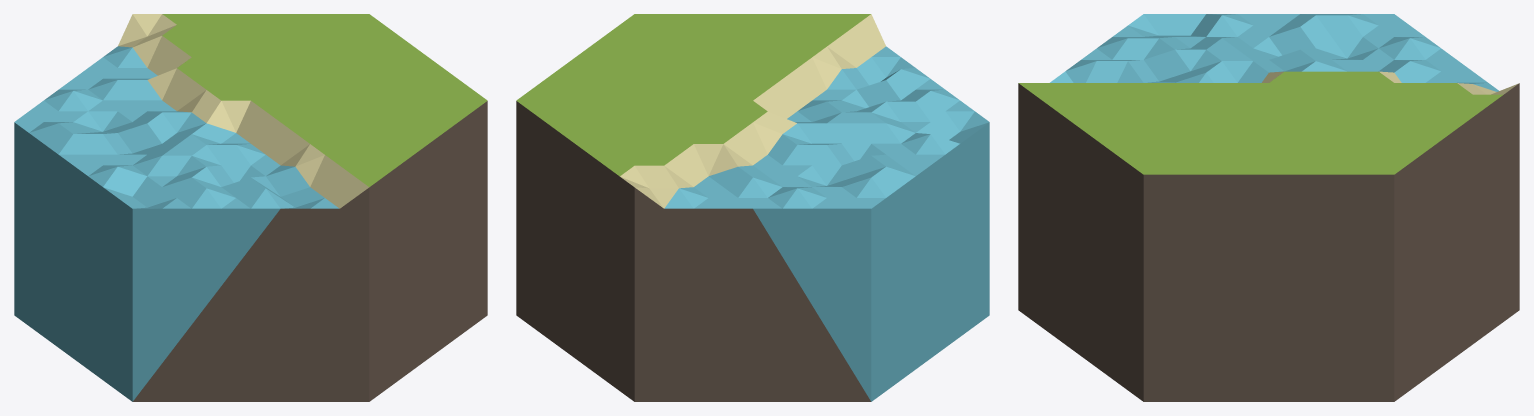
Rendered from coast3a.fbx.
3 renders of one model, left to right at view 1: azimuth 30°, elevation 25°; view 2: azimuth 150°, elevation 25°; view 3: azimuth 270°, elevation 25°, orthographic. The views are drawn at different scales.
Parts seen in each view (by area): view 1: Cylinder; view 2: Cylinder; view 3: Cylinder.
Part boxes in pixels (x1,y1,x2,y2): Cylinder: [14, 14, 487, 401]; Cylinder: [516, 14, 989, 401]; Cylinder: [1018, 14, 1519, 401].
Bounding box in the file's own units: 1.73 × 1 × 2.
